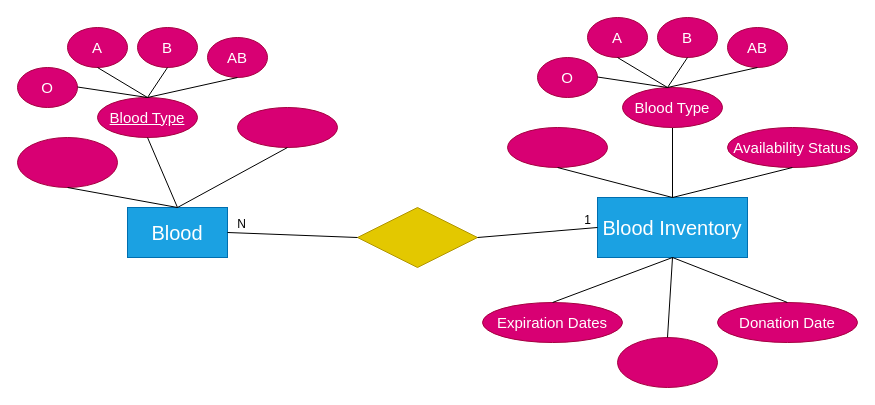
Some shapes in this 875 by 405 pixel diagram are drawn without their labels. The shapes that lost their labels are listed below. From the top down, each one's box as (x1, y1, x2, y2) in pixels, then its label:
(236, 106, 338, 148): Blood Group
(506, 126, 608, 168): Unit ID
(16, 136, 118, 188): RH Factor
(356, 206, 478, 268): Stored
(616, 336, 718, 388): Last Update
